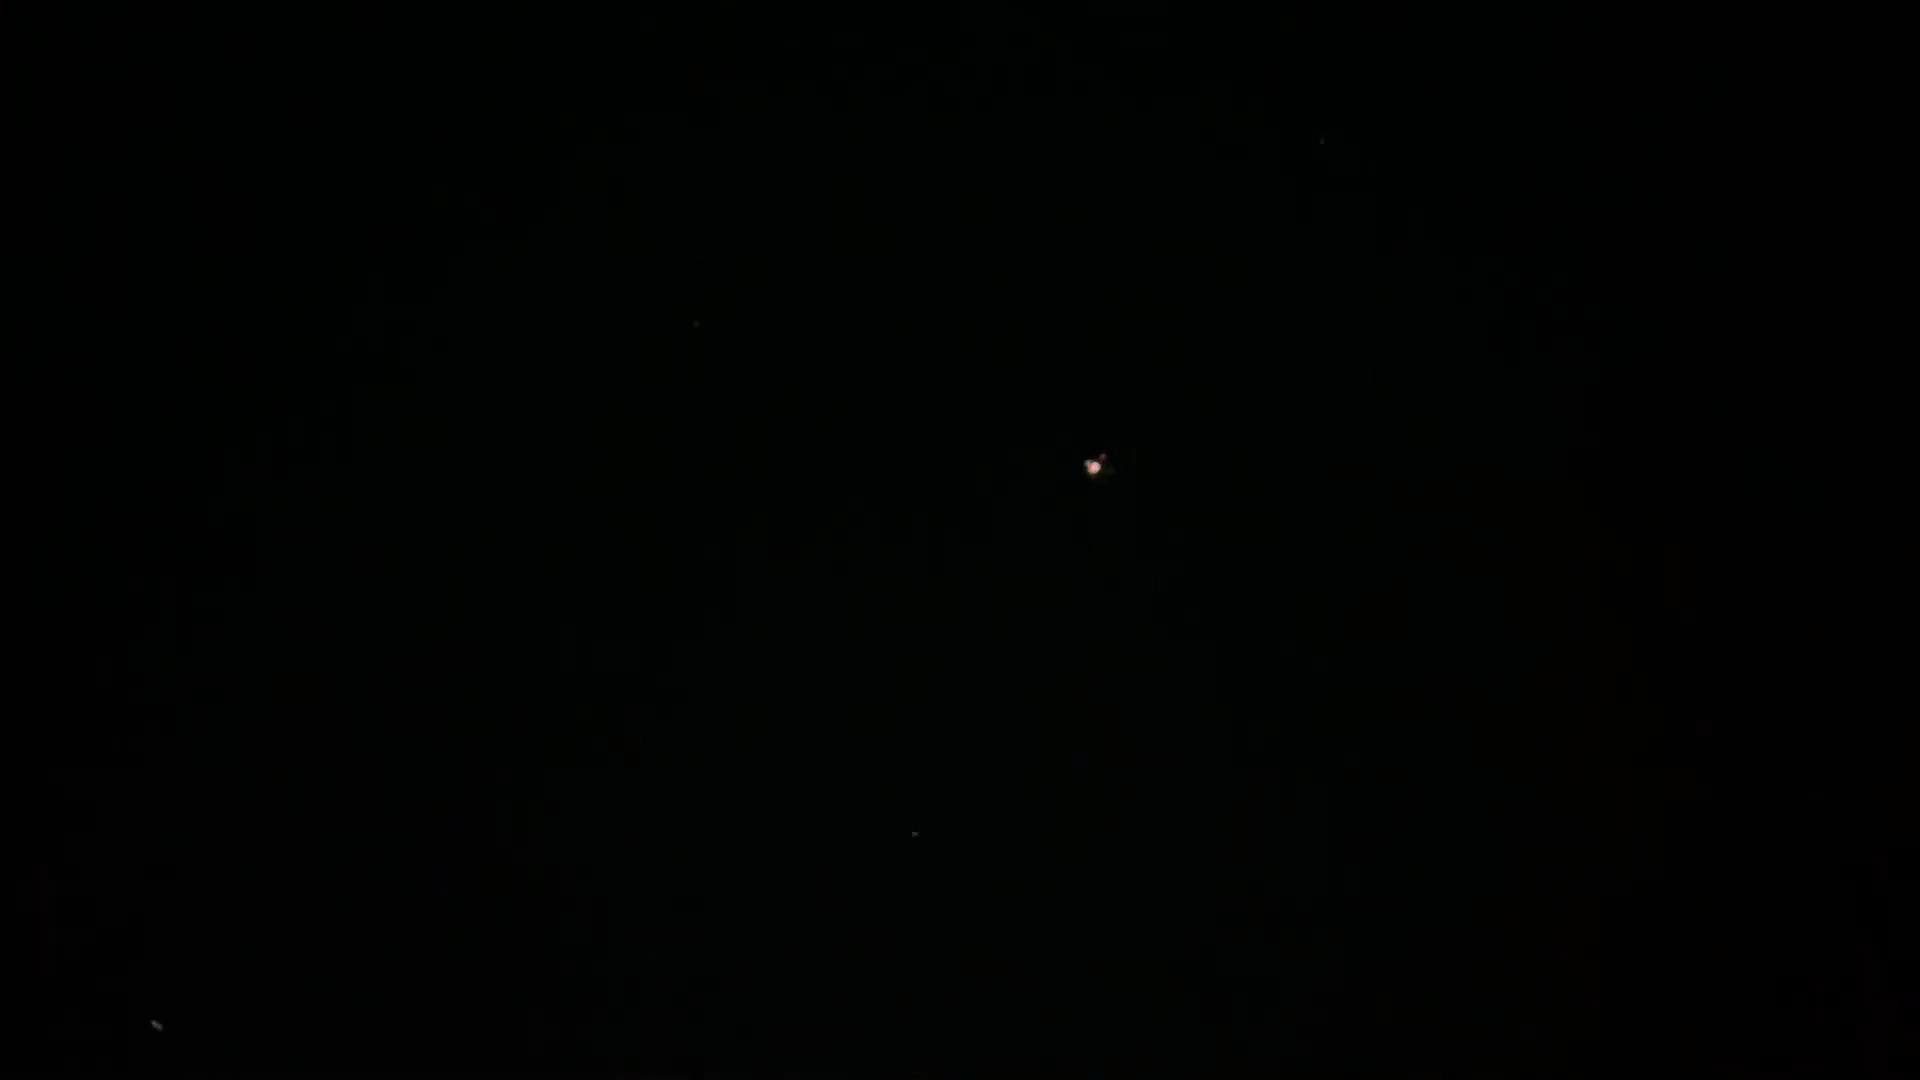Plane: (1052, 435, 1137, 498)
